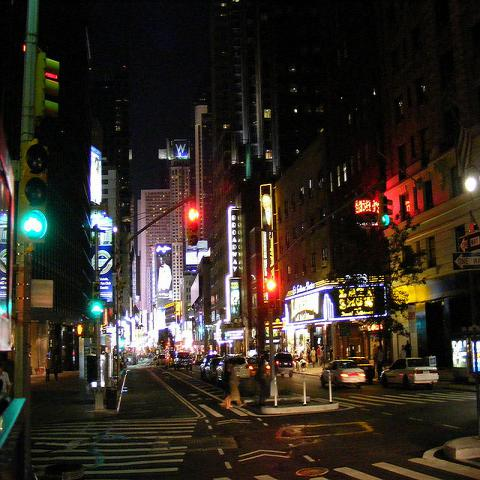car: (380, 358, 438, 389), (216, 354, 250, 389), (321, 359, 366, 385), (348, 357, 376, 384), (199, 354, 221, 378), (274, 351, 294, 377), (248, 356, 270, 376), (206, 358, 223, 380), (174, 352, 192, 372), (158, 354, 166, 364)
